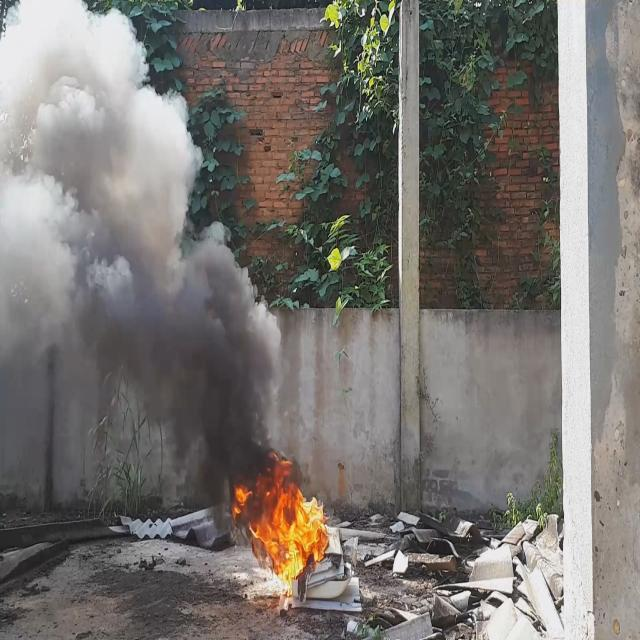Fire: (234, 444, 329, 596)
Smoke: (0, 0, 285, 537)
